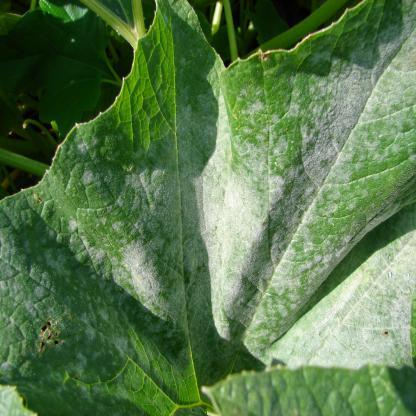Squash Powdery mildew leaf: (3, 12, 416, 408)
